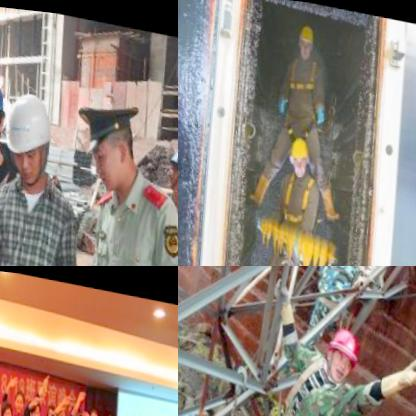head: (11, 385, 24, 413), (27, 392, 42, 416), (0, 393, 13, 416), (44, 395, 56, 416), (54, 398, 66, 416), (72, 403, 87, 416), (87, 399, 98, 416), (142, 406, 160, 416), (116, 407, 129, 416), (106, 408, 119, 416), (130, 410, 142, 416)
helmet: (0, 69, 60, 197), (321, 320, 360, 379), (157, 128, 178, 195), (295, 18, 321, 65), (287, 127, 312, 171), (0, 66, 12, 151)
